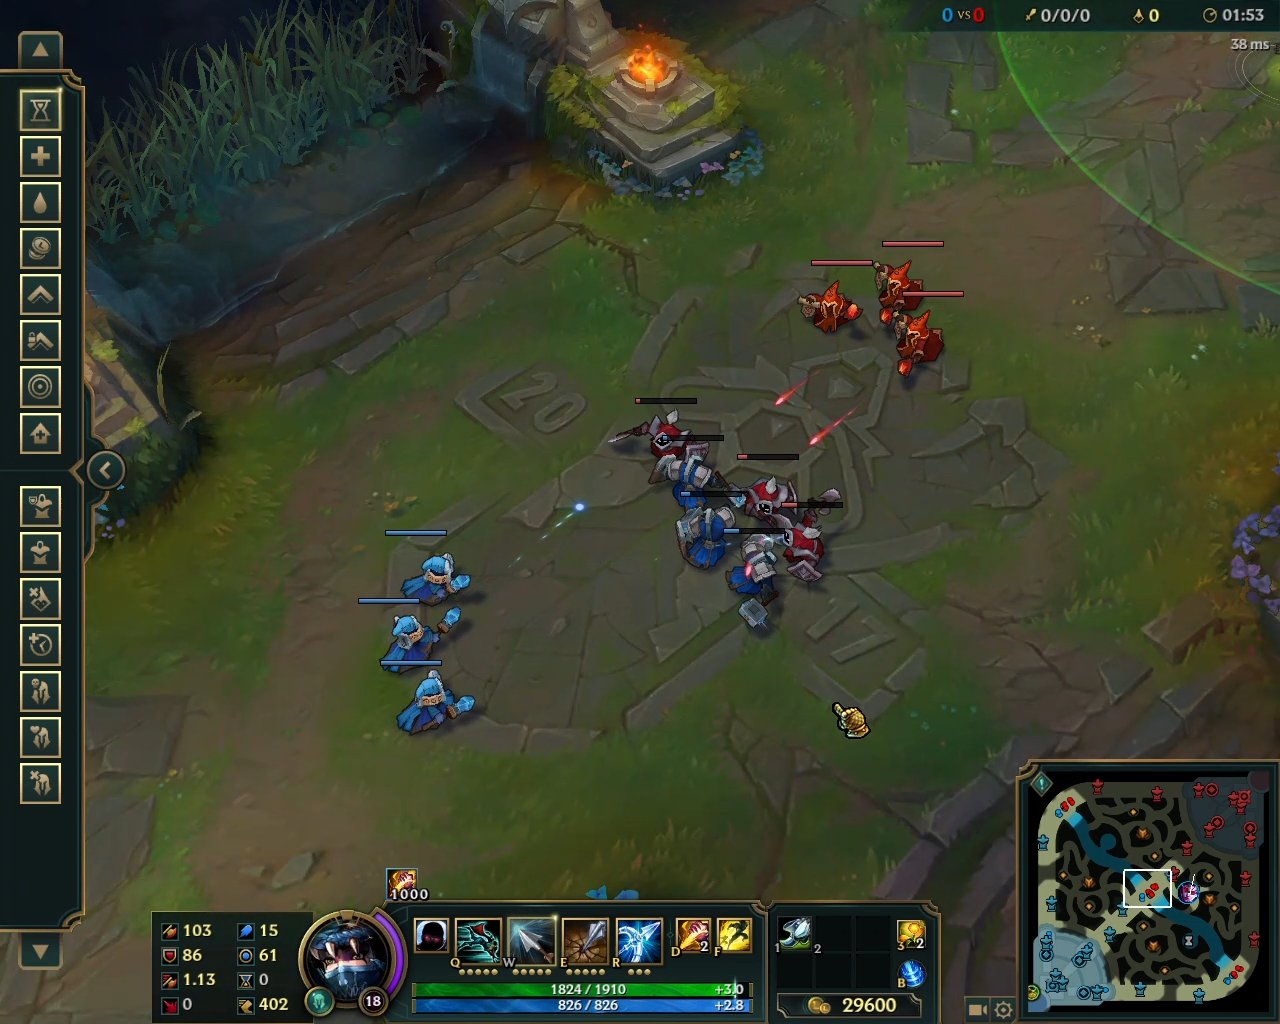EnemyMinion: (603, 395, 709, 469), (886, 290, 965, 382), (777, 483, 843, 585), (795, 259, 872, 338), (734, 449, 802, 536), (872, 240, 944, 324)
